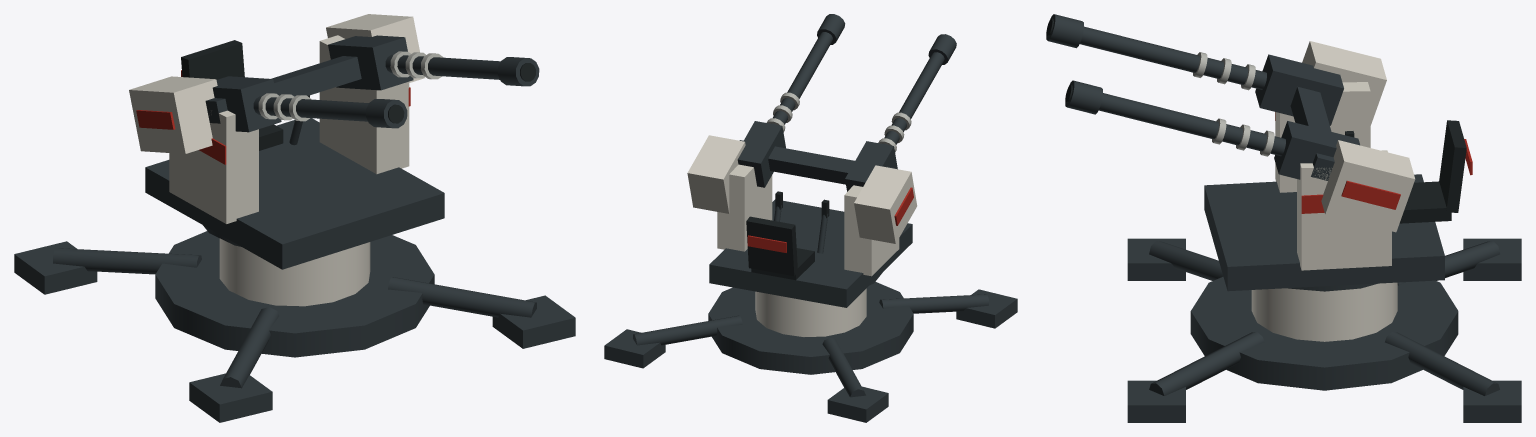
3 renders of one model, left to right at view 1: azimuth 30°, elevation 25°; view 2: azimuth 150°, elevation 25°; view 3: azimuth 270°, elevation 25°, orthographic. The views are drawn at different scales.
Parts seen in each view (by area): view 1: aa-gun-manned-fleet-machine, turret-fleet-machine, turret-fleet-armor, elevation-fleet-armor, aa-gun-manned-fleet-armor, aa-barrel-right-fleet-machine, aa-barrel-left-fleet-machine, elevation-fleet-machine, turret-fleet-rubber, aa-barrel-right-fleet-edge, aa-barrel-left-fleet-edge, elevation-fleet-red; view 2: aa-gun-manned-fleet-machine, turret-fleet-machine, elevation-fleet-armor, turret-fleet-armor, aa-gun-manned-fleet-armor, aa-barrel-right-fleet-machine, aa-barrel-left-fleet-machine, turret-fleet-rubber, elevation-fleet-machine, turret-fleet-red, aa-barrel-left-fleet-edge, aa-barrel-right-fleet-edge; view 3: aa-gun-manned-fleet-machine, turret-fleet-machine, turret-fleet-armor, elevation-fleet-armor, aa-barrel-left-fleet-machine, aa-gun-manned-fleet-armor, aa-barrel-right-fleet-machine, turret-fleet-rubber, elevation-fleet-machine, elevation-fleet-red, aa-barrel-right-fleet-edge, aa-barrel-left-fleet-edge (+1 smaller).
Boxes of the visible parts, <box> form: aa-gun-manned-fleet-machine: <box>14,225,575,422</box>; turret-fleet-machine: <box>145,118,444,269</box>; turret-fleet-armor: <box>169,35,409,223</box>; elevation-fleet-armor: <box>129,14,424,153</box>; aa-gun-manned-fleet-armor: <box>219,238,370,306</box>; aa-barrel-right-fleet-machine: <box>328,35,539,90</box>; aa-barrel-left-fleet-machine: <box>212,76,407,132</box>; elevation-fleet-machine: <box>205,56,361,123</box>; turret-fleet-rubber: <box>181,40,309,150</box>; aa-barrel-right-fleet-edge: <box>390,51,443,79</box>; aa-barrel-left-fleet-edge: <box>258,93,311,121</box>; elevation-fleet-red: <box>136,110,175,129</box>; aa-gun-manned-fleet-machine: <box>604,273,1017,422</box>; turret-fleet-machine: <box>709,199,912,307</box>; elevation-fleet-armor: <box>687,135,917,243</box>; turret-fleet-armor: <box>717,164,899,276</box>; aa-gun-manned-fleet-armor: <box>755,288,866,336</box>; aa-barrel-right-fleet-machine: <box>737,14,845,187</box>; aa-barrel-left-fleet-machine: <box>845,34,956,191</box>; turret-fleet-rubber: <box>746,191,829,280</box>; elevation-fleet-machine: <box>739,140,894,184</box>; turret-fleet-red: <box>747,235,786,252</box>; aa-barrel-left-fleet-edge: <box>878,112,911,152</box>; aa-barrel-right-fleet-edge: <box>766,92,799,132</box>; aa-gun-manned-fleet-machine: <box>1127,238,1521,422</box>; turret-fleet-machine: <box>1204,174,1444,291</box>; turret-fleet-armor: <box>1275,82,1391,270</box>; elevation-fleet-armor: <box>1302,41,1415,232</box>; aa-barrel-left-fleet-machine: <box>1046,14,1343,125</box>; aa-gun-manned-fleet-armor: <box>1251,282,1397,341</box>; aa-barrel-right-fleet-machine: <box>1065,80,1359,179</box>; turret-fleet-rubber: <box>1345,120,1466,223</box>; elevation-fleet-machine: <box>1290,86,1334,180</box>; elevation-fleet-red: <box>1341,180,1400,209</box>; aa-barrel-right-fleet-edge: <box>1212,118,1274,156</box>; aa-barrel-left-fleet-edge: <box>1193,52,1255,90</box>.
Size of the model in its own units: 16.77 by 14.29 by 20.23.
